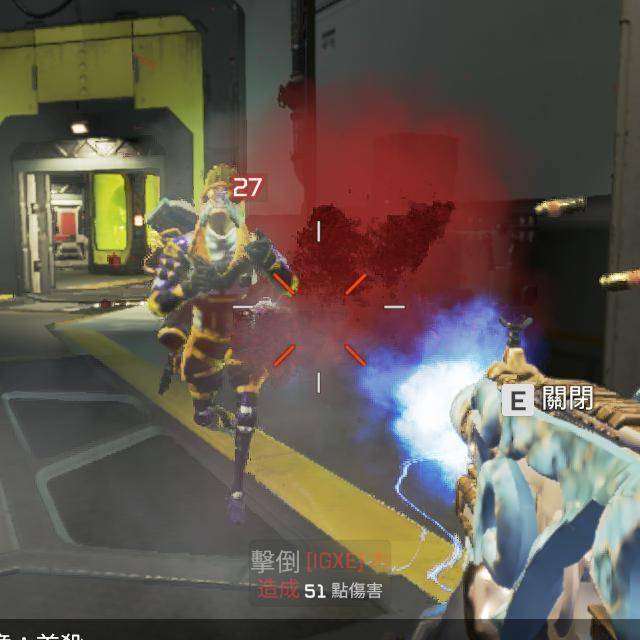avatar: (144, 163, 297, 506)
